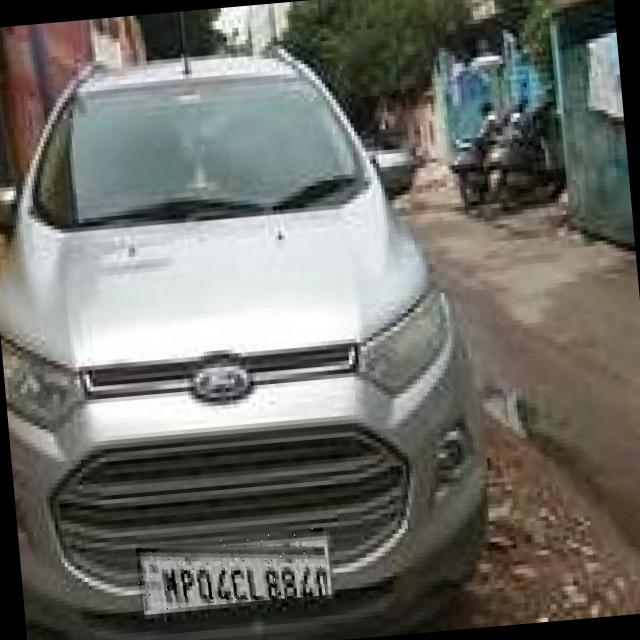Plate: (136, 528, 329, 612)
